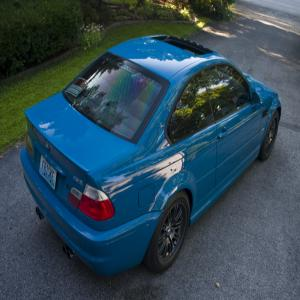Vehicle-registration-plate: (40, 156, 58, 190)
